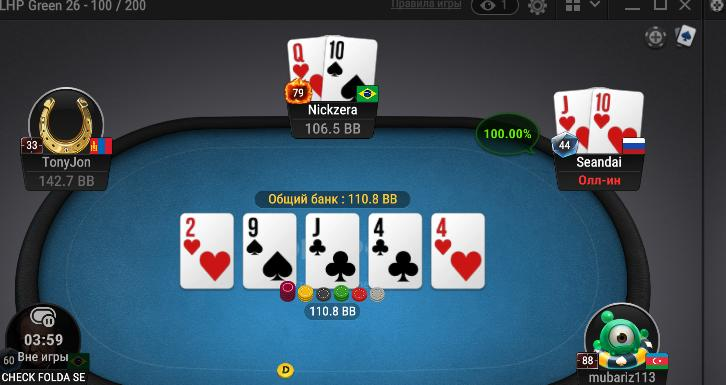10h: (591, 84, 644, 153)
10s: (326, 35, 377, 101)
2h: (182, 214, 234, 288)
4c: (368, 213, 424, 291)
4h: (431, 213, 486, 288)
9s: (243, 214, 295, 288)
Jc: (306, 214, 358, 288)
Jh: (553, 89, 593, 153)
Qh: (287, 36, 326, 107)
